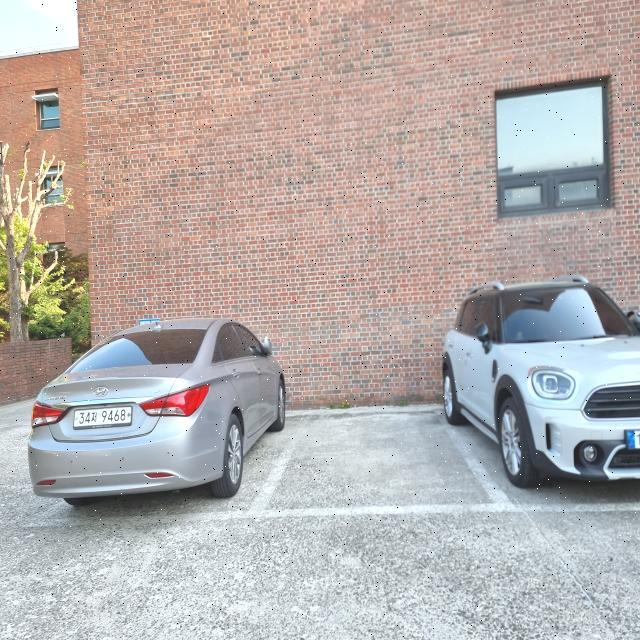empty: (280, 409, 449, 516)
occupied: (29, 320, 291, 503), (444, 292, 640, 485)
